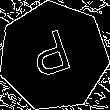P_S: (28, 26, 80, 86)
